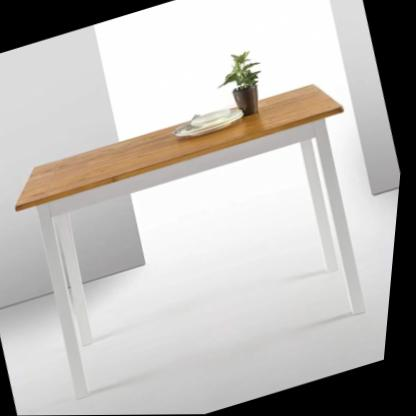Table: (0, 57, 412, 413)
